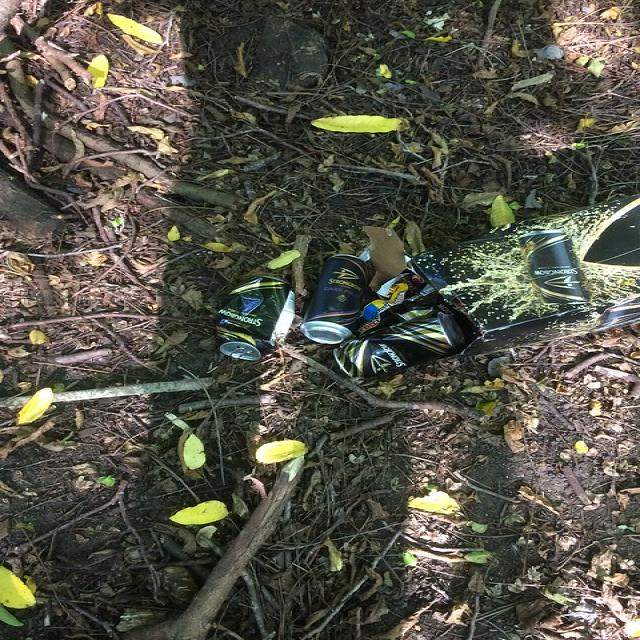Trash: (297, 240, 387, 346), (510, 230, 601, 332), (202, 260, 289, 366), (328, 337, 484, 377)
